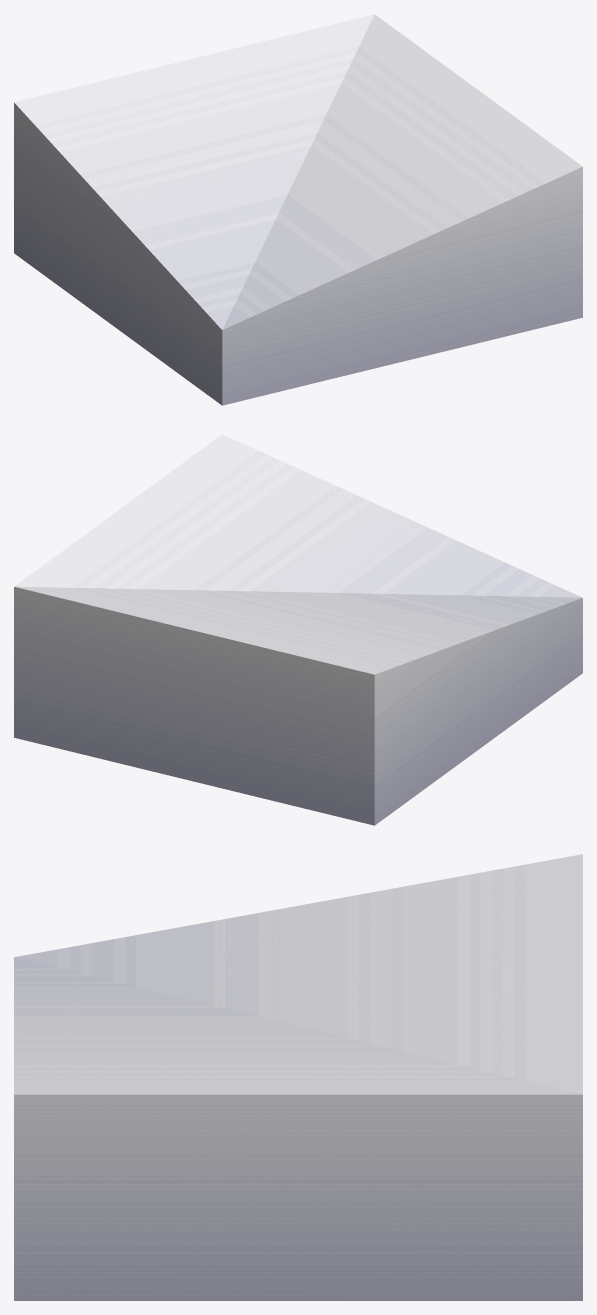
File: snow-tile-corner-inner.glb
3 views of the same model, one above another, from view 1: azimuth 30°, elevation 25°; view 2: azimuth 150°, elevation 25°; view 3: azimuth 270°, elevation 25° (orthographic). The views are drawn at different scales.
Visible parts, largest first — view 1: snow-tile-corner-inner; view 2: snow-tile-corner-inner; view 3: snow-tile-corner-inner.
Part boxes in pixels (x1,y1,x2,y2): snow-tile-corner-inner: [14, 14, 582, 405]; snow-tile-corner-inner: [14, 434, 582, 825]; snow-tile-corner-inner: [14, 854, 582, 1300].
Bounding box in the file's own units: 1 × 0.4 × 1.
Materials: 1 (1 with a texture image).
